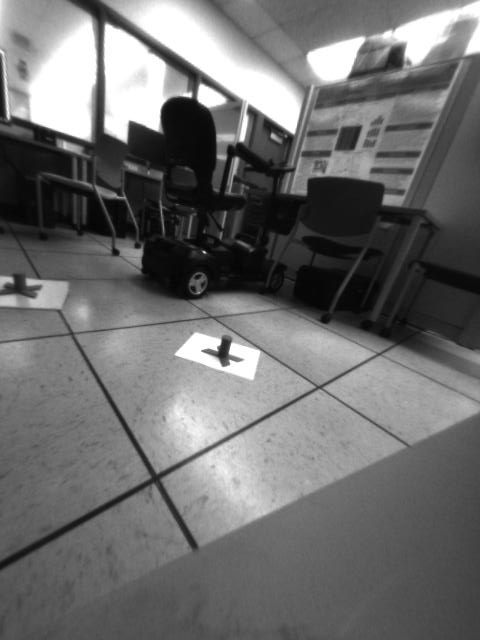X: (1, 266, 42, 302), (199, 332, 242, 366)
